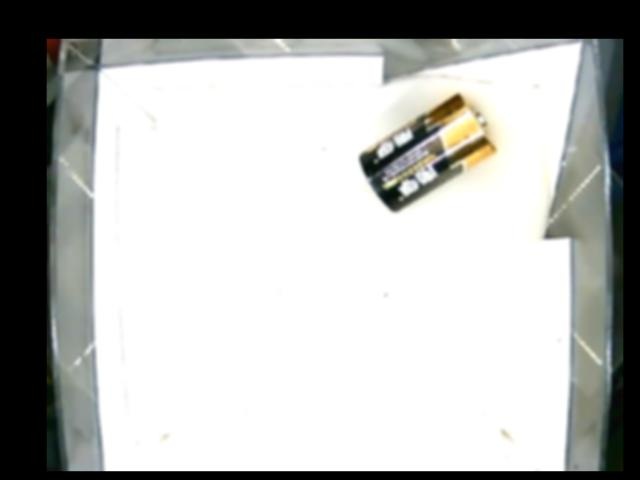Battery: (355, 91, 498, 209)
Bottle: (244, 231, 342, 354)
